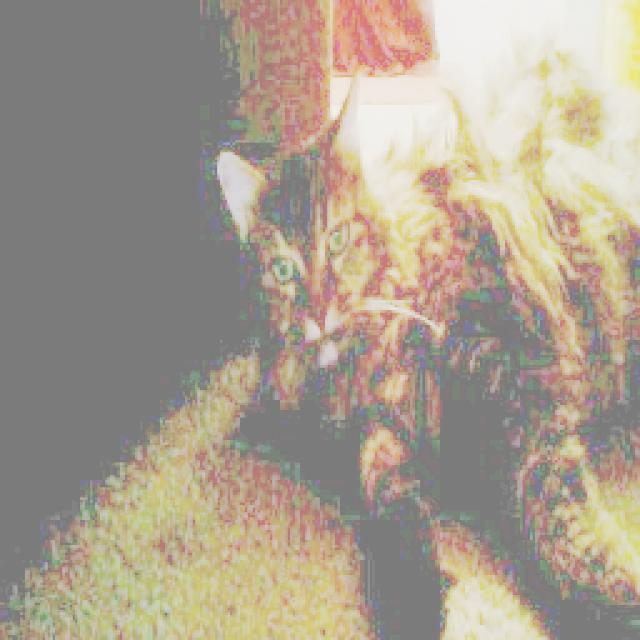cat: (208, 69, 639, 616)
